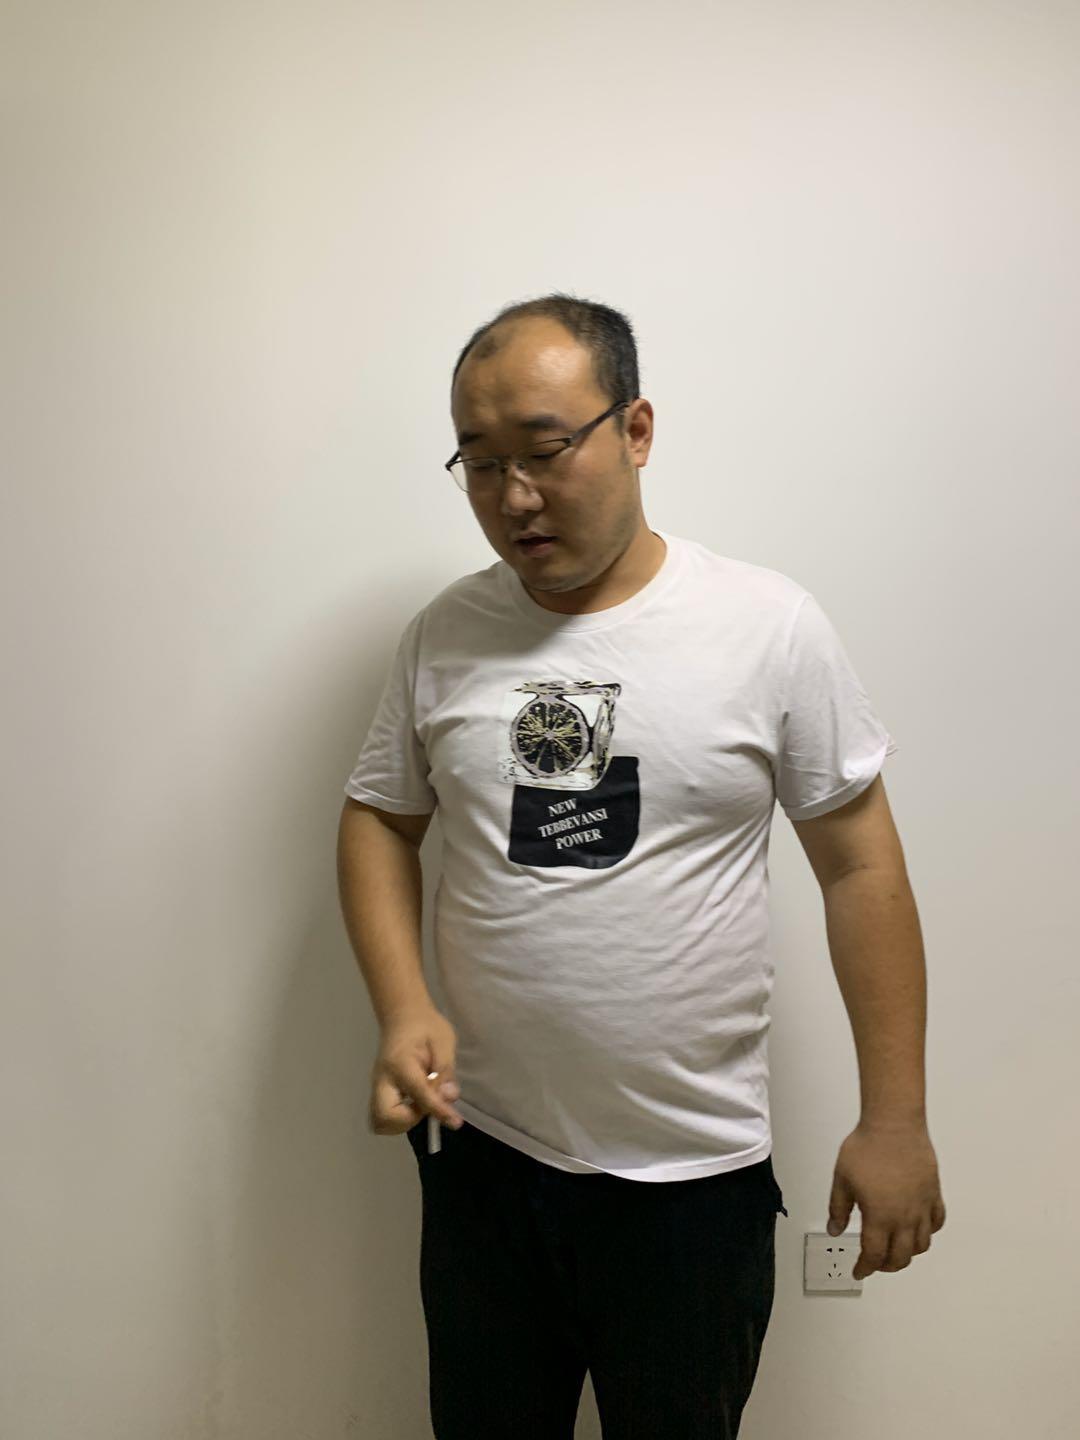smoke: (424, 1069, 447, 1159)
